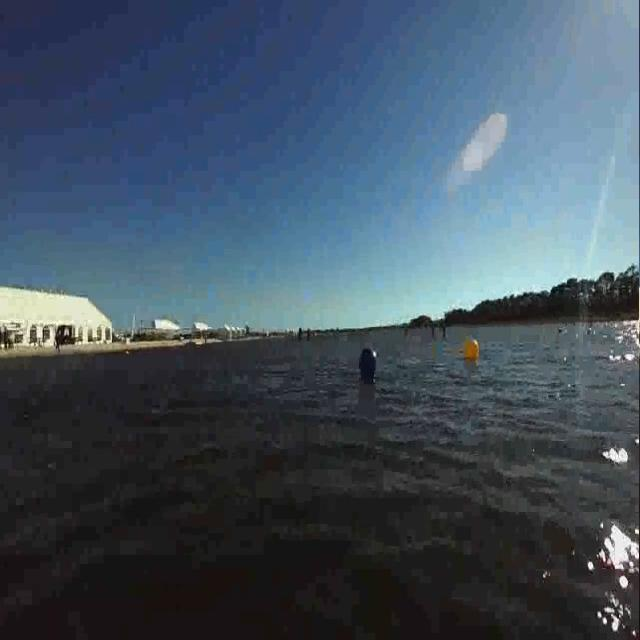blue-buoy: (357, 346, 376, 379)
yellow-buoy: (466, 339, 481, 363)
